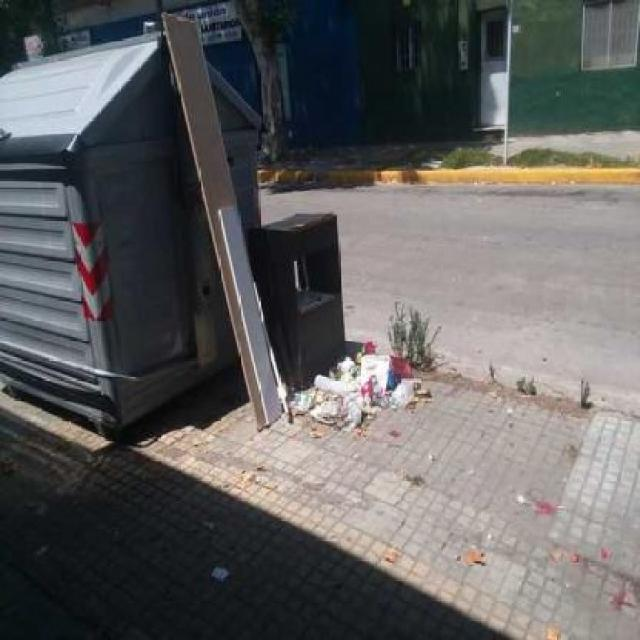garbage: (262, 319, 431, 448), (519, 509, 626, 602), (365, 517, 418, 584), (201, 545, 234, 600), (452, 534, 490, 576)
